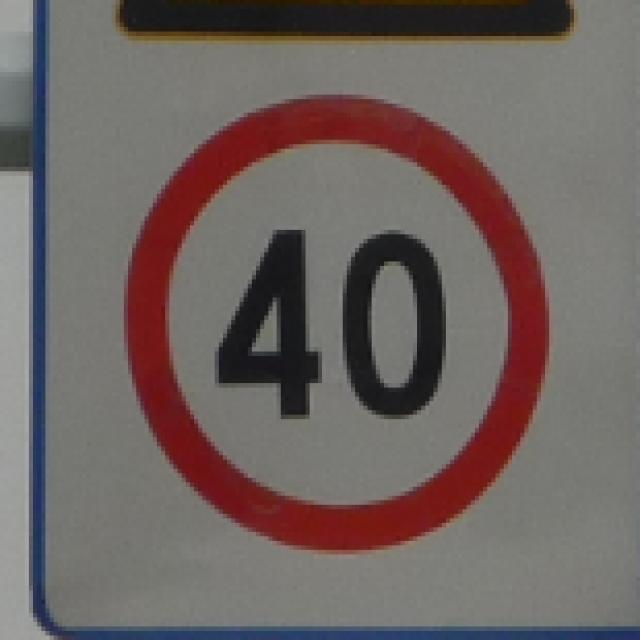Speed: (107, 90, 556, 540)
